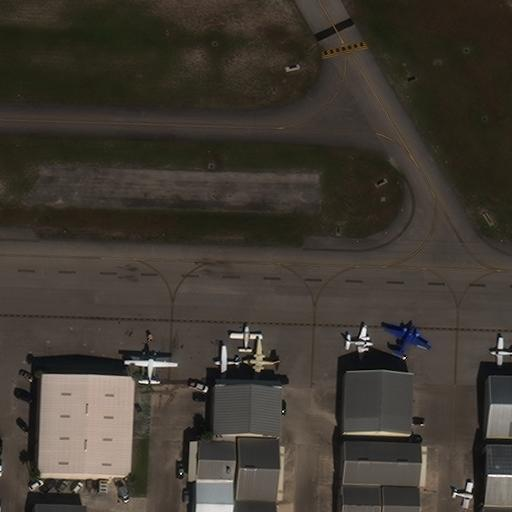Medium Civil Transport: (242, 337, 279, 385), (123, 355, 177, 386)
Small Civil Transport: (386, 325, 429, 355), (344, 325, 374, 363), (214, 344, 241, 377), (231, 325, 261, 353), (489, 336, 511, 368), (453, 483, 474, 508)
